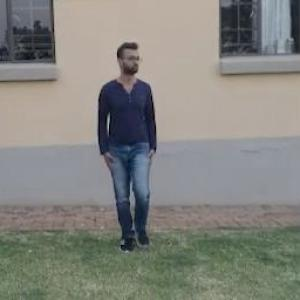follow: (90, 27, 168, 273)
